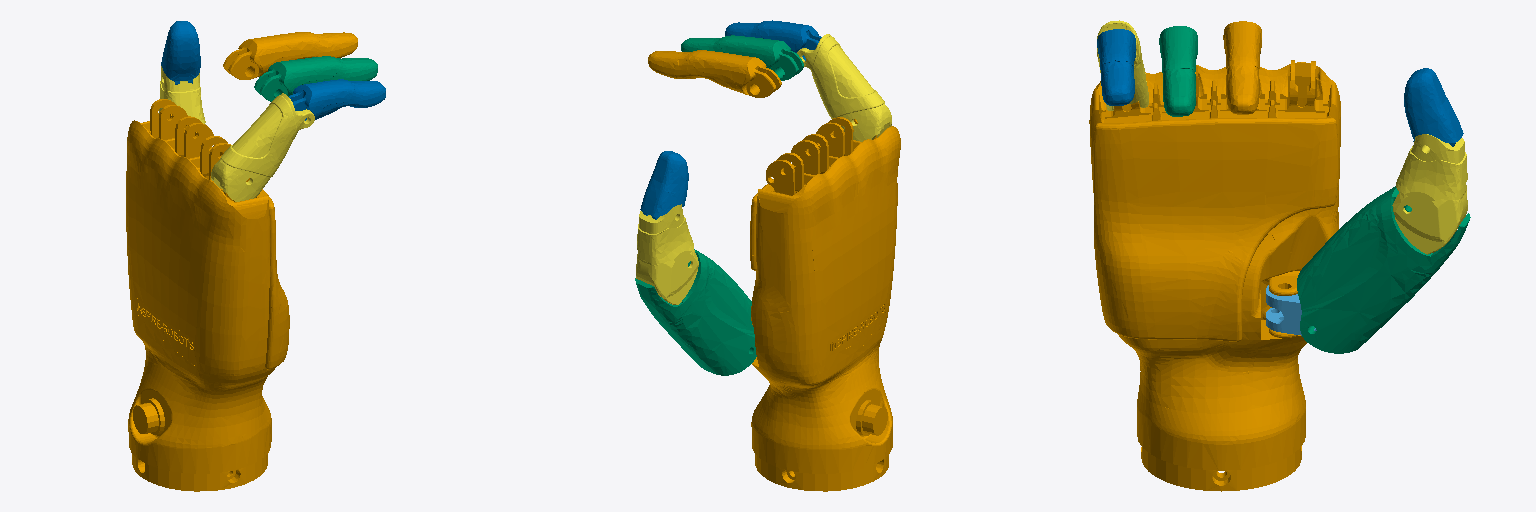
URDF robot description (rh56dfx_right_spahybgen):
<?xml version='1.0' encoding='utf-8'?>
<robot name="rh56dfx_right_spahybgen">
  <link name="base">
    <visual>
      <origin xyz="0 0 0" rpy="0 0 0" />
      <geometry>
        <mesh filename="meshes/base.obj" />
      </geometry>
    </visual>
  </link>
  <link name="thumb_proximal_base">
    <visual>
      <origin xyz="0 0 0" rpy="0 0 0" />
      <geometry>
        <mesh filename="meshes/thumb_proximal_base.obj" />
      </geometry>
    </visual>
  </link>
  <link name="thumb_proximal">
    <visual>
      <origin xyz="0 0 0" rpy="0 0 0" />
      <geometry>
        <mesh filename="meshes/thumb_proximal.obj" />
      </geometry>
    </visual>
  </link>
  <link name="thumb_intermediate">
    <visual>
      <origin xyz="0 0 0" rpy="0 0 0" />
      <geometry>
        <mesh filename="meshes/thumb_intermediate.obj" />
      </geometry>
    </visual>
  </link>
  <link name="thumb_distal">
    <visual>
      <origin xyz="0 0 0" rpy="0 0 0" />
      <geometry>
        <mesh filename="meshes/thumb_distal.obj" />
      </geometry>
    </visual>
  </link>
  <link name="index_proximal">
    <visual>
      <origin xyz="0 0 0" rpy="0 0 0" />
      <geometry>
        <mesh filename="meshes/index_proximal.obj" />
      </geometry>
    </visual>
  </link>
  <link name="index_intermediate">
    <visual>
      <origin xyz="0 0 0" rpy="0 0 0" />
      <geometry>
        <mesh filename="meshes/index_intermediate.obj" />
      </geometry>
    </visual>
  </link>
  <link name="middle_proximal">
    <visual>
      <origin xyz="0 0 0" rpy="0 0 0" />
      <geometry>
        <mesh filename="meshes/middle_proximal.obj" />
      </geometry>
    </visual>
  </link>
  <link name="middle_intermediate">
    <visual>
      <origin xyz="0 0 0" rpy="0 0 0" />
      <geometry>
        <mesh filename="meshes/middle_intermediate.obj" />
      </geometry>
    </visual>
  </link>
  <link name="ring_proximal">
    <visual>
      <origin xyz="0 0 0" rpy="0 0 0" />
      <geometry>
        <mesh filename="meshes/ring_proximal.obj" />
      </geometry>
    </visual>
  </link>
  <link name="ring_intermediate">
    <visual>
      <origin xyz="0 0 0" rpy="0 0 0" />
      <geometry>
        <mesh filename="meshes/ring_intermediate.obj" />
      </geometry>
    </visual>
  </link>
  <link name="pinky_proximal">
    <visual>
      <origin xyz="0 0 0" rpy="0 0 0" />
      <geometry>
        <mesh filename="meshes/pinky_proximal.obj" />
      </geometry>
    </visual>
  </link>
  <link name="pinky_intermediate">
    <visual>
      <origin xyz="0 0 0" rpy="0 0 0" />
      <geometry>
        <mesh filename="meshes/pinky_intermediate.obj" />
      </geometry>
    </visual>
  </link>
  <joint name="thumb_proximal_yaw_joint" type="revolute">
    <axis xyz="0 0 -1" />
    <limit lower="0.0" upper="1.308" velocity="0" effort="0" />
    <child link="thumb_proximal_base" />
    <parent link="base" />
    <origin xyz="0.016960099999999999 0.020450400000000001 0.069099999999999995" rpy="3.6731876126458336e-06 -6.3268034398832322e-06 -1.5707949125923917" />
  </joint>
  <joint name="index_proximal_joint" type="revolute">
    <axis xyz="0 0 1" />
    <limit lower="0.06715014773032502" upper="1.5" velocity="0" effort="0" />
    <child link="index_proximal" />
    <parent link="base" />
    <origin xyz="-0.00028524399999999998 0.032268900000000003 0.13653000000000001" rpy="1.6056952382089744 3.6160012277622637e-15 3.1415899999990526" />
  </joint>
  <joint name="middle_proximal_joint" type="revolute">
    <axis xyz="0 0 1" />
    <limit lower="0.09360730593607307" upper="1.5" velocity="0" effort="0" />
    <child link="middle_proximal" />
    <parent link="base" />
    <origin xyz="-0.00028529599999999999 0.0129509 0.1371" rpy="1.5707949125807721 -4.6215836761440208e-13 3.1415899999994217" />
  </joint>
  <joint name="ring_proximal_joint" type="revolute">
    <axis xyz="0 0 1" />
    <limit lower="0.09360730593607307" upper="1.53102336825141" velocity="0" effort="0" />
    <child link="ring_proximal" />
    <parent link="base" />
    <origin xyz="-0.00028534699999999998 -0.0062863299999999997 0.13691" rpy="1.5184106776944877 2.0771213766618553e-13 3.1415899999987151" />
  </joint>
  <joint name="pinky_proximal_joint" type="revolute">
    <axis xyz="0 0 1" />
    <limit lower="0.09360730593607307" upper="1.53102336825141" velocity="0" effort="0" />
    <child link="pinky_proximal" />
    <parent link="base" />
    <origin xyz="-0.00028539800000000002 -0.025487099999999999 0.13571" rpy="1.4661094795241432 -1.2506913788721792e-12 3.141589999999947" />
  </joint>
  <joint name="thumb_proximal_pitch_joint" type="revolute">
    <axis xyz="0 0 1" />
    <limit lower="0.1" upper="0.48872180451127817" velocity="0" effort="0" />
    <child link="thumb_proximal" />
    <parent link="thumb_proximal_base" />
    <origin xyz="-0.0088099000000000007 0.010892000000000001 -0.0092499999999999995" rpy="1.5707992067224876 -1.6129799948472259e-07 2.8586999444103394" />
  </joint>
  <joint name="index_intermediate_joint" type="revolute">
    <axis xyz="0 0 1" />
    <limit lower="0.025" upper="1.7" velocity="0" effort="0" />
    <mimic joint="index_proximal_joint" multiplier="1.1169" offset="-0.05" />
    <child link="index_intermediate" />
    <parent link="index_proximal" />
    <origin xyz="-0.0026137999999999999 0.032025999999999999 -0.001" rpy="0 -0 0" />
  </joint>
  <joint name="middle_intermediate_joint" type="revolute">
    <axis xyz="0 0 1" />
    <limit lower="-0.04545" upper="1.56" velocity="0" effort="0" />
    <mimic joint="middle_proximal_joint" multiplier="1.1169" offset="-0.15" />
    <child link="middle_intermediate" />
    <parent link="middle_proximal" />
    <origin xyz="-0.0024229 0.032041 -0.001" rpy="0 -0 0" />
  </joint>
  <joint name="ring_intermediate_joint" type="revolute">
    <axis xyz="0 0 1" />
    <limit lower="-0.04545" upper="1.56" velocity="0" effort="0" />
    <mimic joint="ring_proximal_joint" multiplier="1.1169" offset="-0.15" />
    <child link="ring_intermediate" />
    <parent link="ring_proximal" />
    <origin xyz="-0.0024229 0.032041 -0.001" rpy="0 -0 0" />
  </joint>
  <joint name="pinky_intermediate_joint" type="revolute">
    <axis xyz="0 0 1" />
    <limit lower="-0.04545" upper="1.56" velocity="0" effort="0" />
    <mimic joint="pinky_proximal_joint" multiplier="1.1169" offset="-0.15" />
    <child link="pinky_intermediate" />
    <parent link="pinky_proximal" />
    <origin xyz="-0.0024229 0.032041 -0.001" rpy="0 -0 0" />
  </joint>
  <joint name="thumb_intermediate_joint" type="revolute">
    <axis xyz="0 0 1" />
    <limit lower="0.0" upper="0.8" velocity="0" effort="0" />
    <mimic joint="thumb_proximal_pitch_joint" multiplier="1.33" offset="0.15" />
    <child link="thumb_intermediate" />
    <parent link="thumb_proximal" />
    <origin xyz="0.044069999999999998 0.034553 -0.00080000000000000004" rpy="0 -0 0" />
  </joint>
  <joint name="thumb_distal_joint" type="revolute">
    <axis xyz="0 0 1" />
    <limit lower="0.0" upper="0.6" velocity="0" effort="0" />
    <mimic joint="thumb_proximal_pitch_joint" multiplier="0.66" offset="0.15" />
    <child link="thumb_distal" />
    <parent link="thumb_intermediate" />
    <origin xyz="0.020247999999999999 0.010156 -0.0011999999999999999" rpy="0 -0 0" />
  </joint>
</robot>

--- Render facts (derived) ---
Views: 3 orthographic renders of the robot side by side, from view 1: azimuth 30°, elevation 25°; view 2: azimuth 150°, elevation 25°; view 3: azimuth 270°, elevation 25°.
Robot: rh56dfx_right_spahybgen — 13 links, 12 joints (12 revolute); root link base; default pose: all joints at 0 but 6 set to mid-range because 0 is outside their limits (index_proximal_joint = 0.7836, middle_proximal_joint = 0.7968, ring_proximal_joint = 0.8123, pinky_proximal_joint = 0.8123, thumb_proximal_pitch_joint = 0.2944, index_intermediate_joint = 0.8252).
Links seen in each view (by area): view 1: base, pinky_proximal, middle_intermediate, ring_intermediate, pinky_intermediate, thumb_distal, thumb_intermediate; view 2: base, thumb_proximal, pinky_proximal, thumb_intermediate, middle_intermediate, ring_intermediate, thumb_distal, pinky_intermediate; view 3: base, thumb_proximal, thumb_intermediate, middle_intermediate, ring_intermediate, thumb_distal, pinky_intermediate, thumb_proximal_base, pinky_proximal.
Boxes of the visible links, x1,y1,x2,y2 form: base: (126, 99, 289, 491); pinky_proximal: (211, 93, 314, 201); middle_intermediate: (223, 32, 357, 79); ring_intermediate: (254, 56, 377, 101); pinky_intermediate: (289, 79, 385, 120); thumb_distal: (161, 21, 200, 84); thumb_intermediate: (159, 66, 205, 124); base: (750, 117, 900, 491); thumb_proximal: (635, 249, 756, 375); pinky_proximal: (797, 34, 891, 141); thumb_intermediate: (636, 204, 698, 304); middle_intermediate: (648, 50, 781, 97); ring_intermediate: (681, 35, 803, 80); thumb_distal: (640, 151, 688, 219); pinky_intermediate: (725, 20, 821, 60); base: (1089, 60, 1340, 491); thumb_proximal: (1297, 186, 1470, 353); thumb_intermediate: (1392, 134, 1467, 254); middle_intermediate: (1223, 21, 1261, 114); ring_intermediate: (1159, 26, 1197, 116); thumb_distal: (1404, 68, 1463, 146); pinky_intermediate: (1097, 29, 1135, 105); thumb_proximal_base: (1266, 285, 1316, 335); pinky_proximal: (1097, 20, 1148, 110).
Bounding box of the posed robot: 0.1004 × 0.1233 × 0.1687 m (x, y, z).
9 mesh visuals loaded from 13 distinct referenced files (9 OBJ); not drawn: 4 (reference not matched to a file when rendering).
